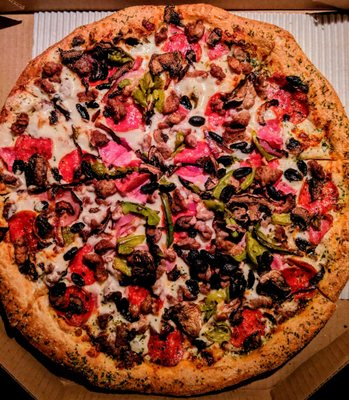curry: (0, 0, 349, 311)
sandwich: (0, 2, 348, 397)
